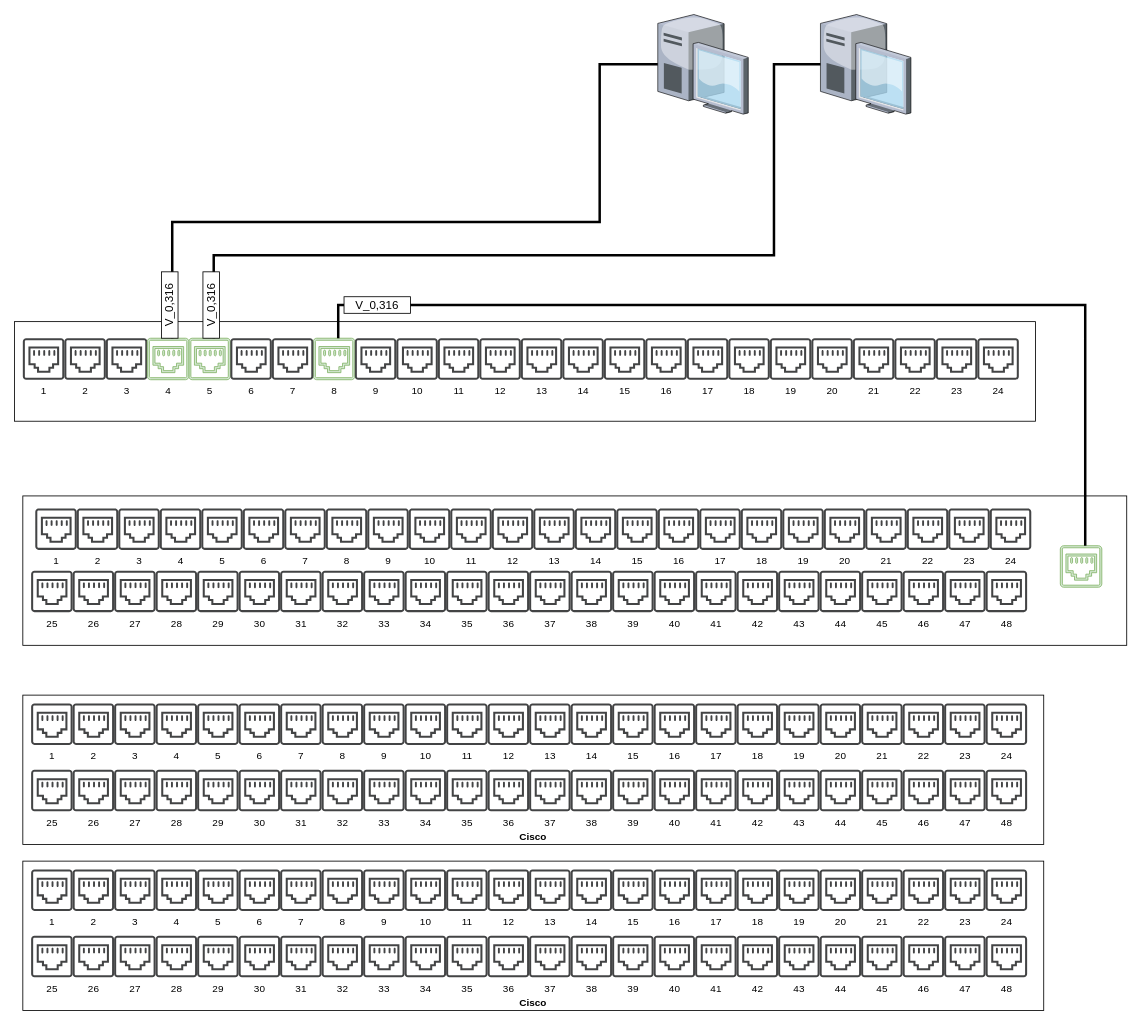
This 1141x1025 diagram has some shape labels left out. Here are the shapes that lost their labels. From the top down, the box of each, then its label:
(657, 14, 748, 114): B316-07
(820, 14, 911, 114): B316-08
(14, 321, 1035, 421): brassage
(22, 495, 1127, 645): Huawei
(1059, 545, 1102, 587): Console
